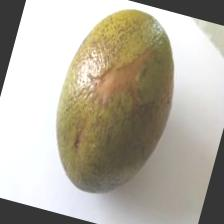Orange Rotten: (27, 0, 203, 220)
